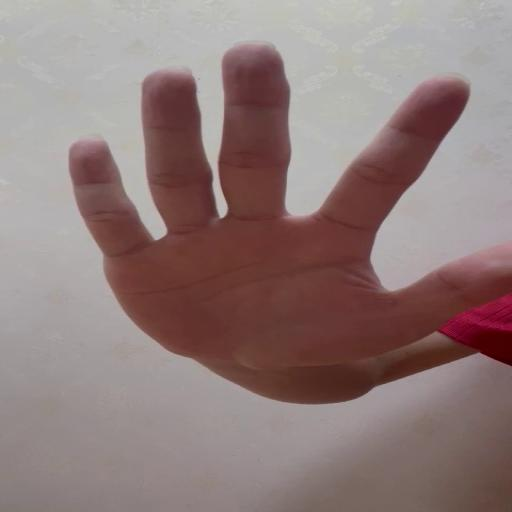open_palm: (67, 40, 508, 370)
